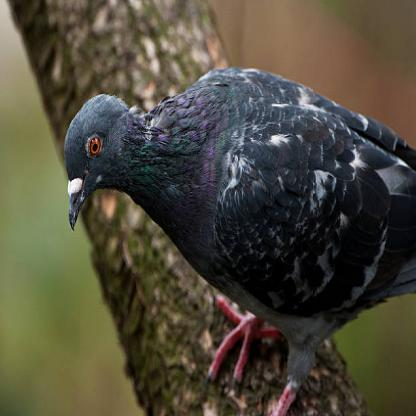Rock Pigeon: (66, 54, 416, 345)
